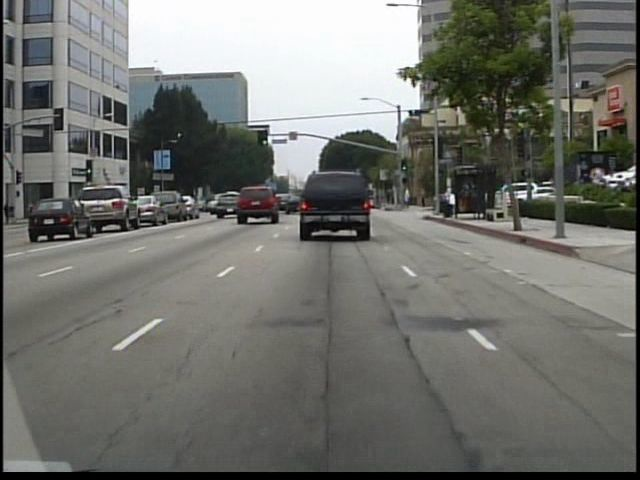person: (402, 184, 415, 211), (419, 181, 430, 210), (384, 184, 395, 208)
